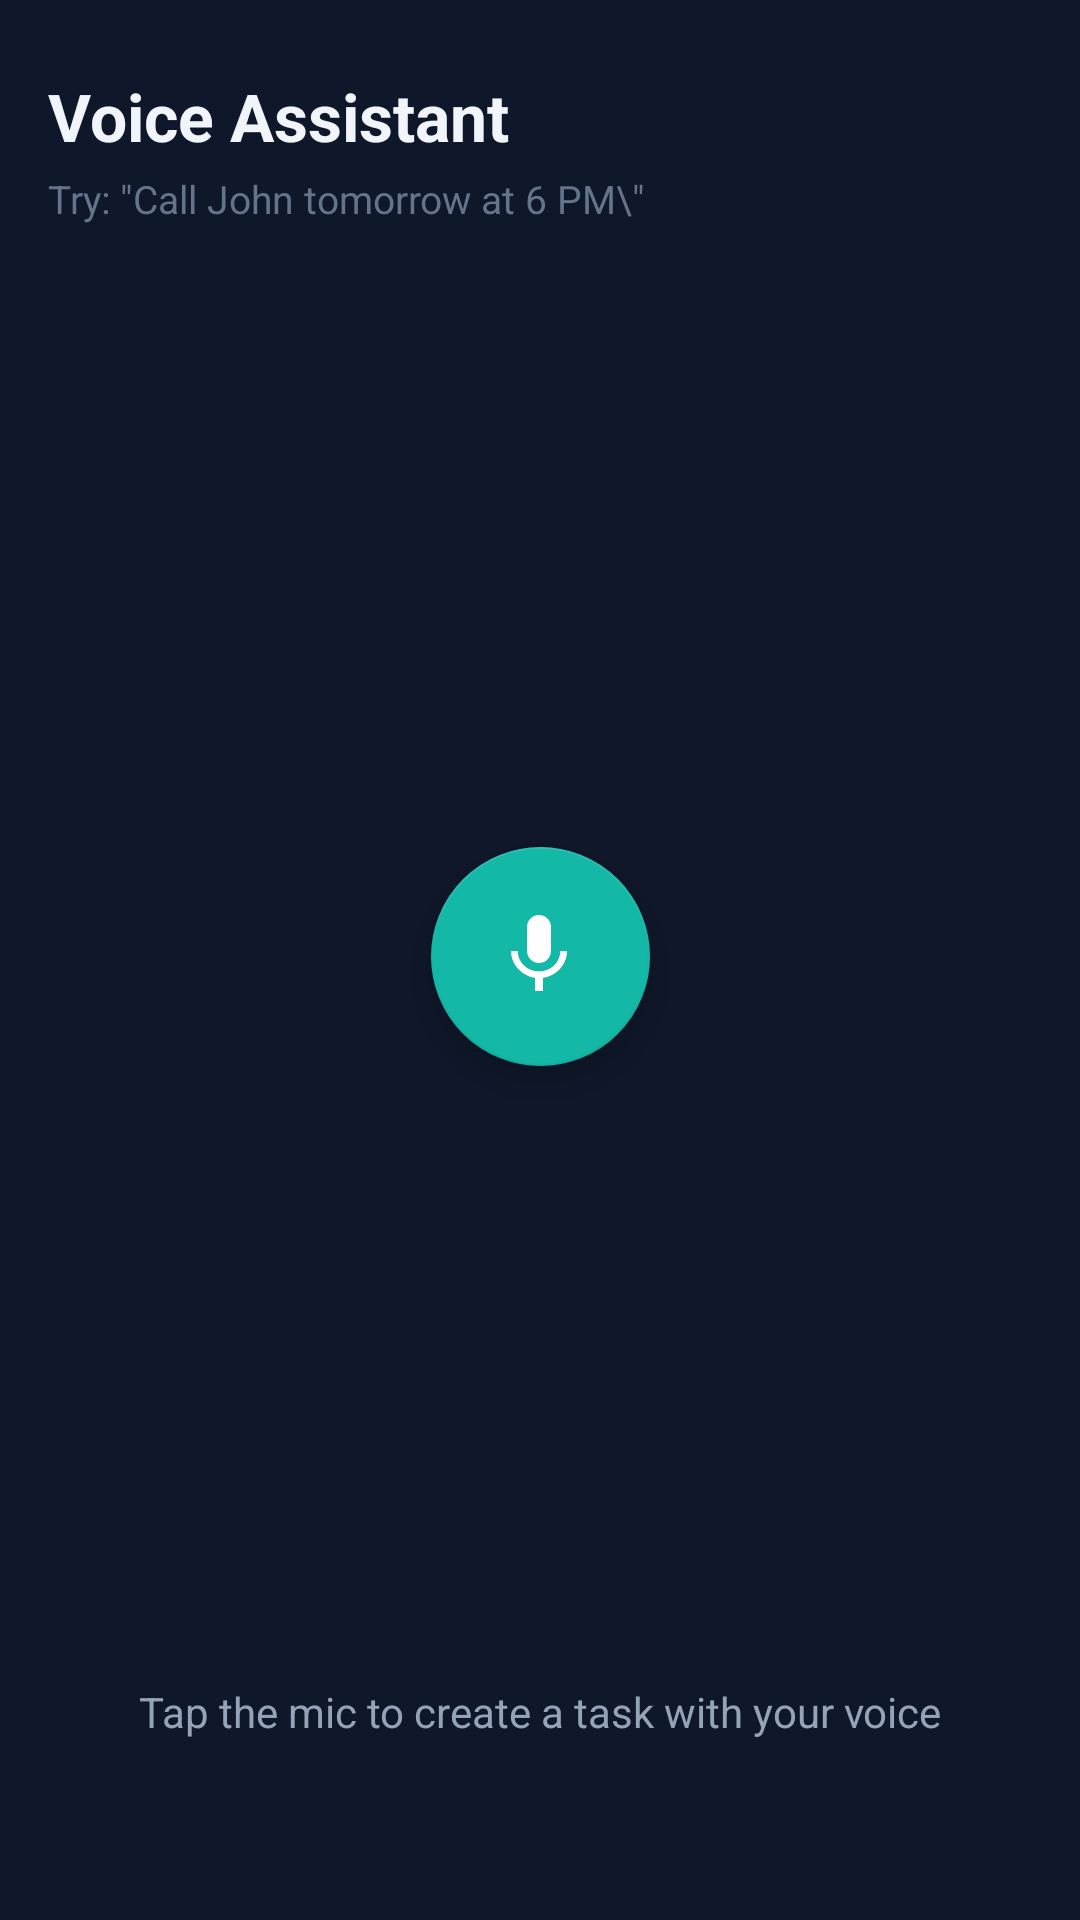

Point at icon controls on the screen. Image size 1080x1920, points as (x=x, y=y).
Start listening: (x=540, y=956)
